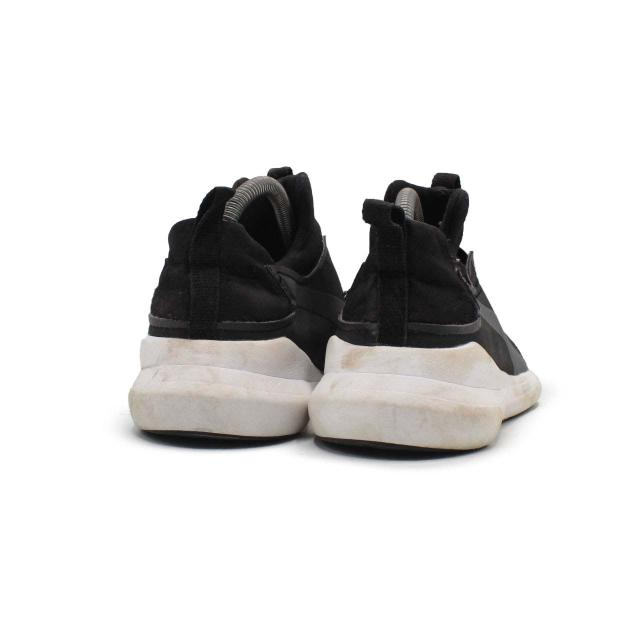heel: (142, 187, 310, 334), (333, 202, 492, 347)
midsole: (306, 336, 534, 449), (125, 333, 319, 436)
